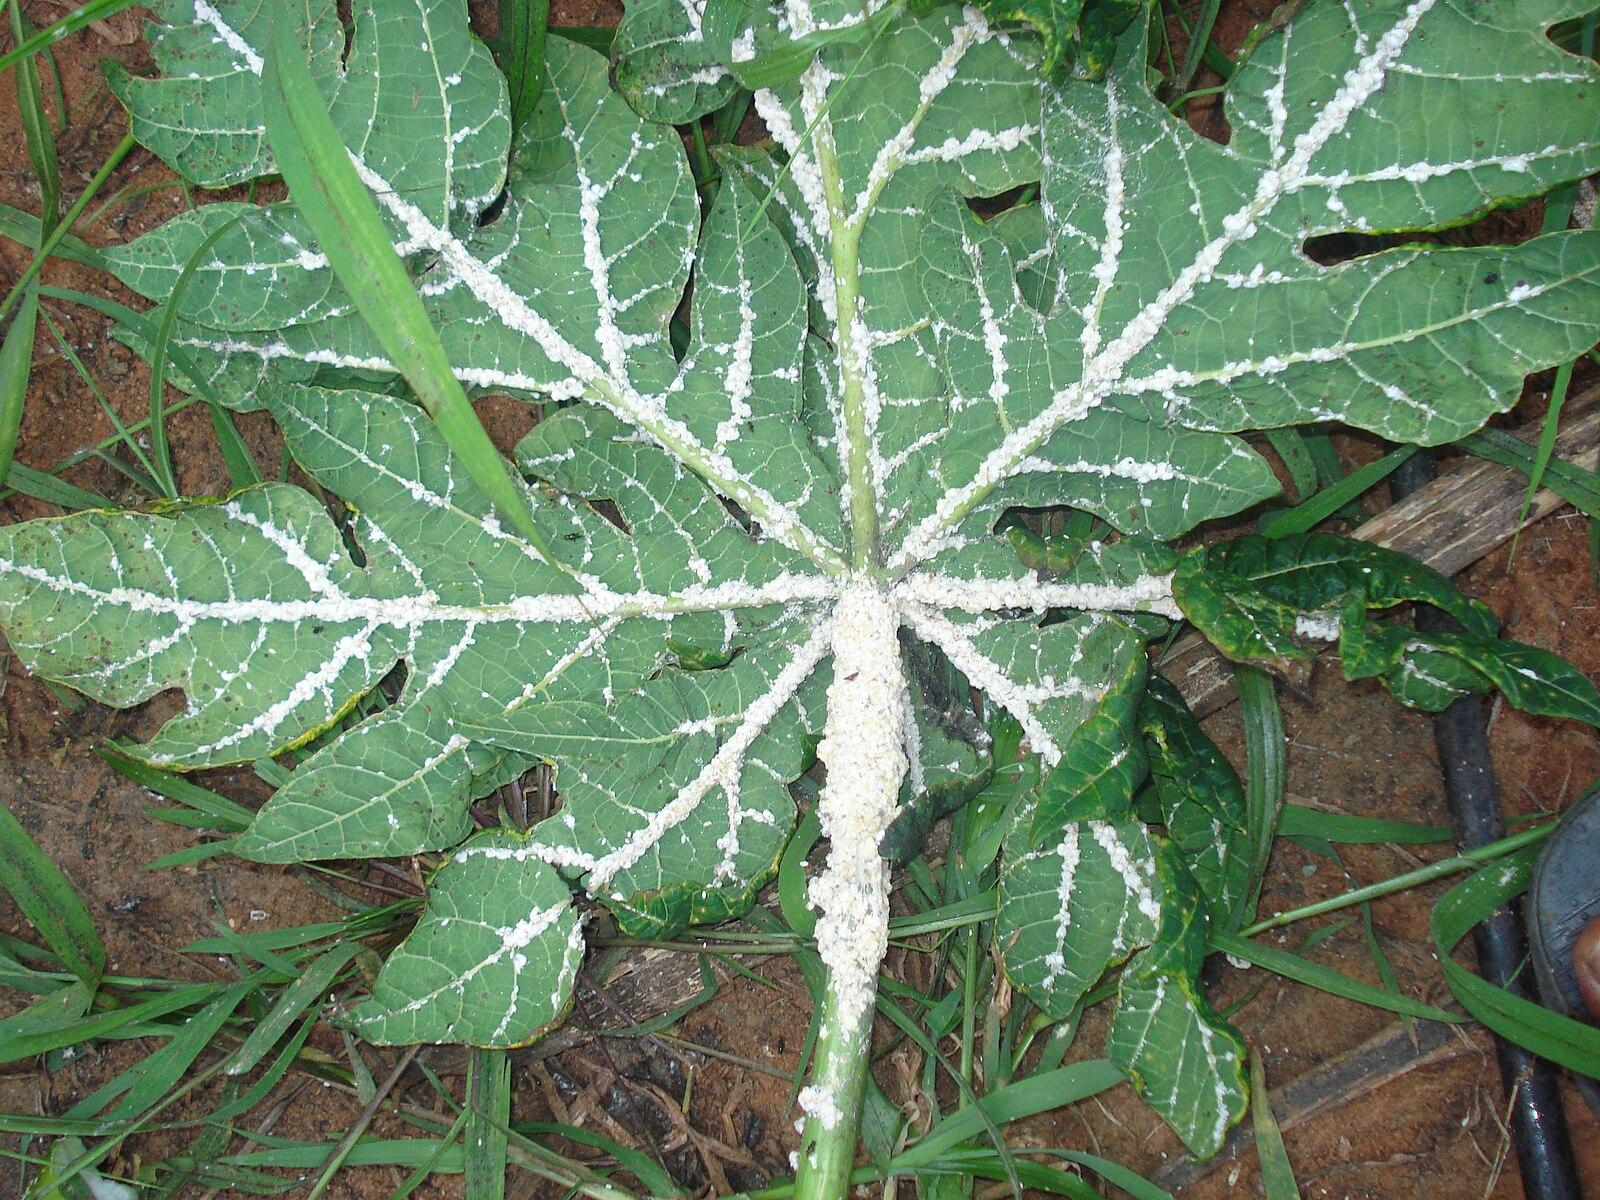pseudococcidae: (3, 9, 1590, 1172)
